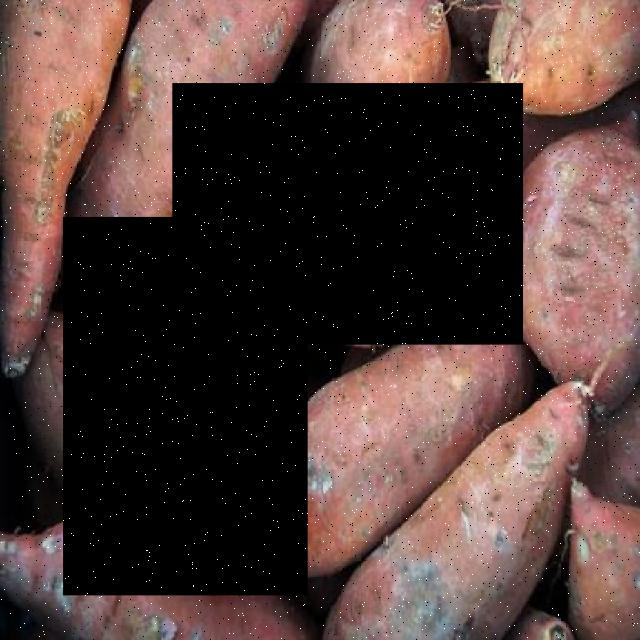Sweet_Potato: (63, 217, 308, 595), (173, 83, 524, 345)
